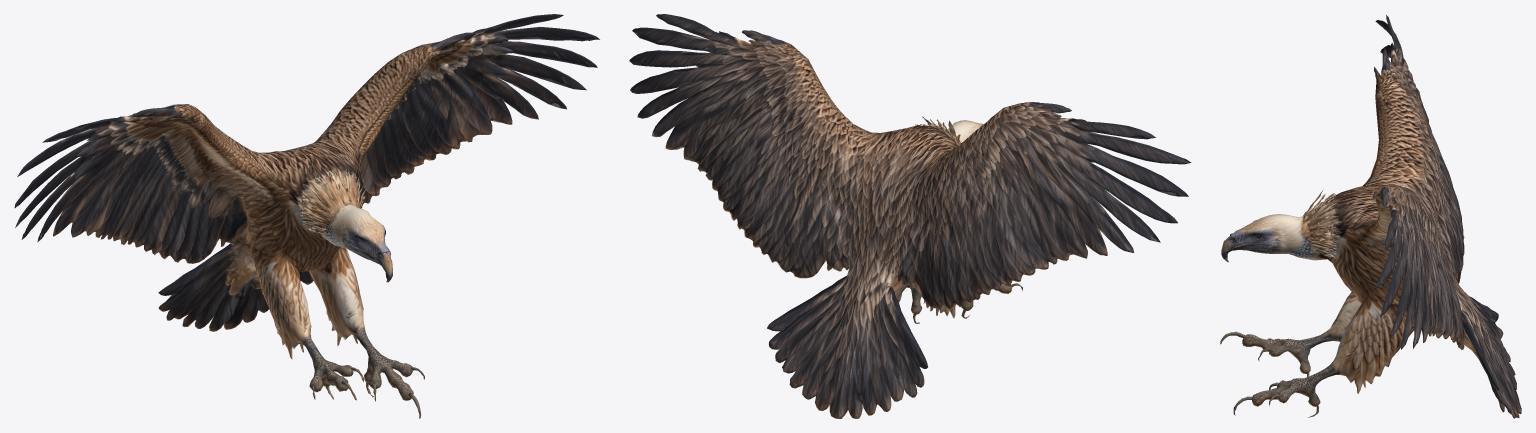
The model's file is free-eagle.glb.
The picture shows the model from 3 angles, left to right: view 1: azimuth 30°, elevation 25°; view 2: azimuth 150°, elevation 25°; view 3: azimuth 270°, elevation 25°; orthographic projection. The views are drawn at different scales.
Visible parts, largest first — view 1: Model; view 2: Model; view 3: Model.
Part boxes in pixels (x1,y1,x2,y2): Model: [14, 14, 599, 418]; Model: [629, 14, 1191, 418]; Model: [1220, 15, 1521, 418].
Bounding box in the file's own units: 1 × 0.5107 × 0.4834.
1 material, 1 textured.
